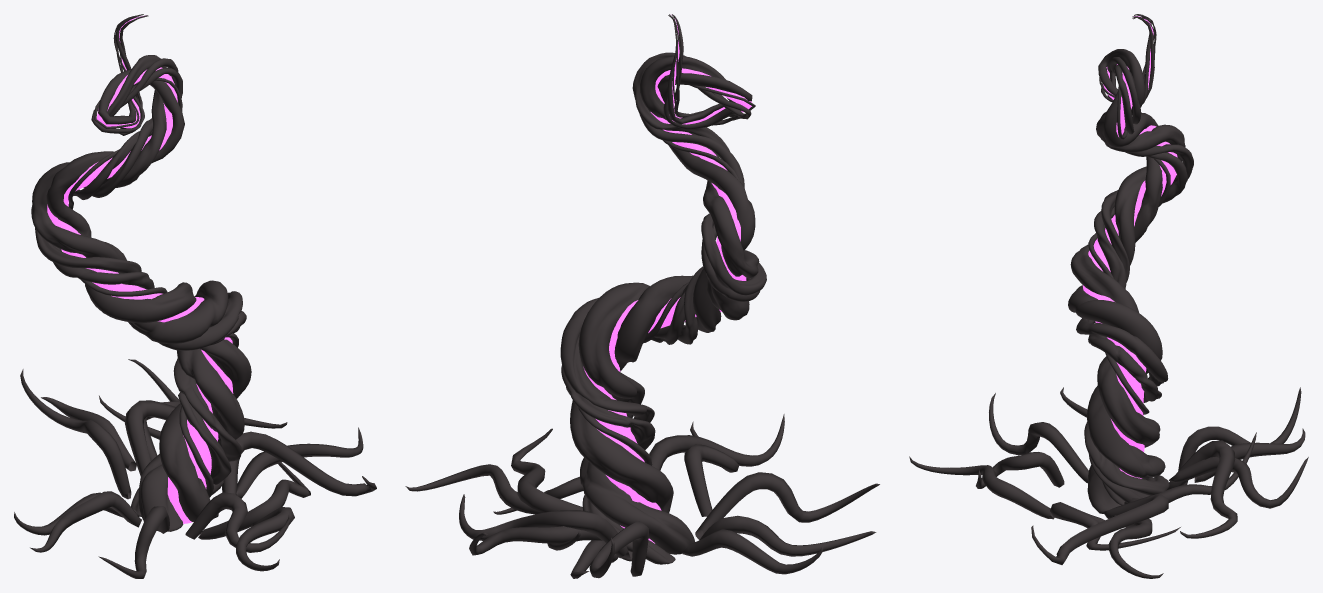
The model's file is Beacon2.fbx.
The picture shows the model from 3 angles, left to right: view 1: azimuth 30°, elevation 25°; view 2: azimuth 150°, elevation 25°; view 3: azimuth 270°, elevation 25°; orthographic projection. The views are drawn at different scales.
Visible parts, largest first — view 1: Albero_LOD0; view 2: Albero_LOD0; view 3: Albero_LOD0.
Boxes of the visible parts, <box> form: Albero_LOD0: <box>14,14,376,578</box>; Albero_LOD0: <box>405,14,879,578</box>; Albero_LOD0: <box>909,14,1308,578</box>.
Size of what is drawn, in the model's own units: 1336 by 1752 by 1288.
